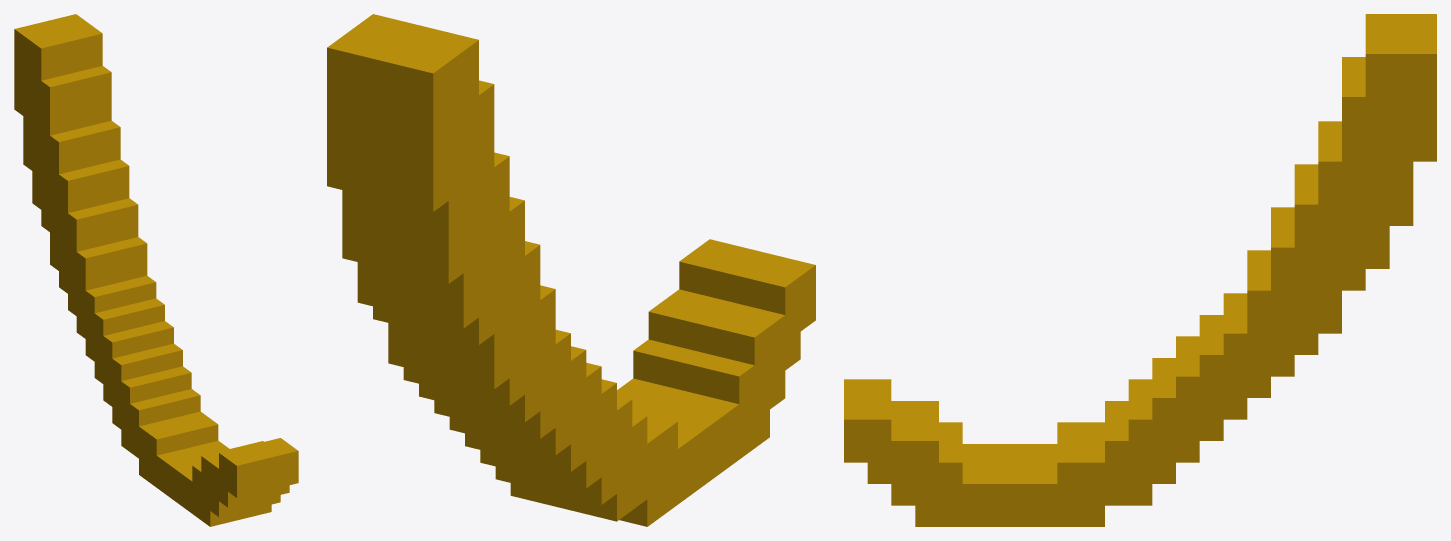
The model's file is goodnight-moon-25.obj.
3 views of the same model, side by side, from view 1: azimuth 30°, elevation 25°; view 2: azimuth 150°, elevation 25°; view 3: azimuth 270°, elevation 25° (orthographic). The views are drawn at different scales.
Size of the model in its own units: 0.4 by 2.2 by 2.5.
Materials: 1 (1 with a texture image).
